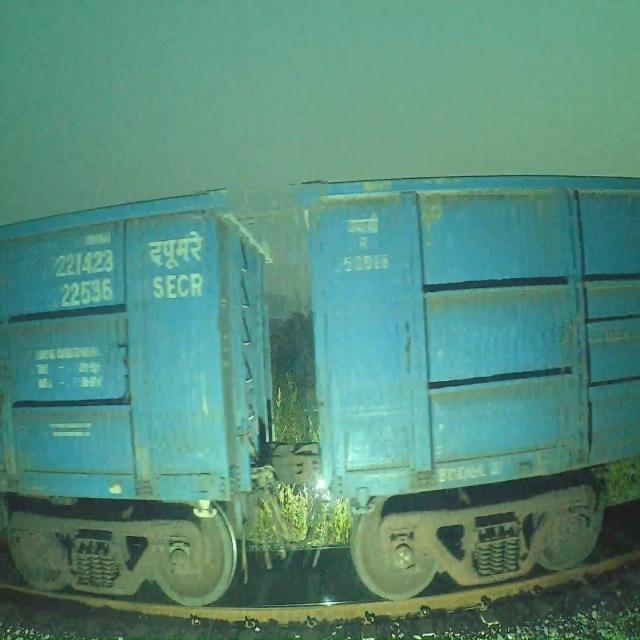WAgon-uic: (295, 175, 640, 599), (0, 188, 278, 604)
uic: (49, 238, 116, 313)
